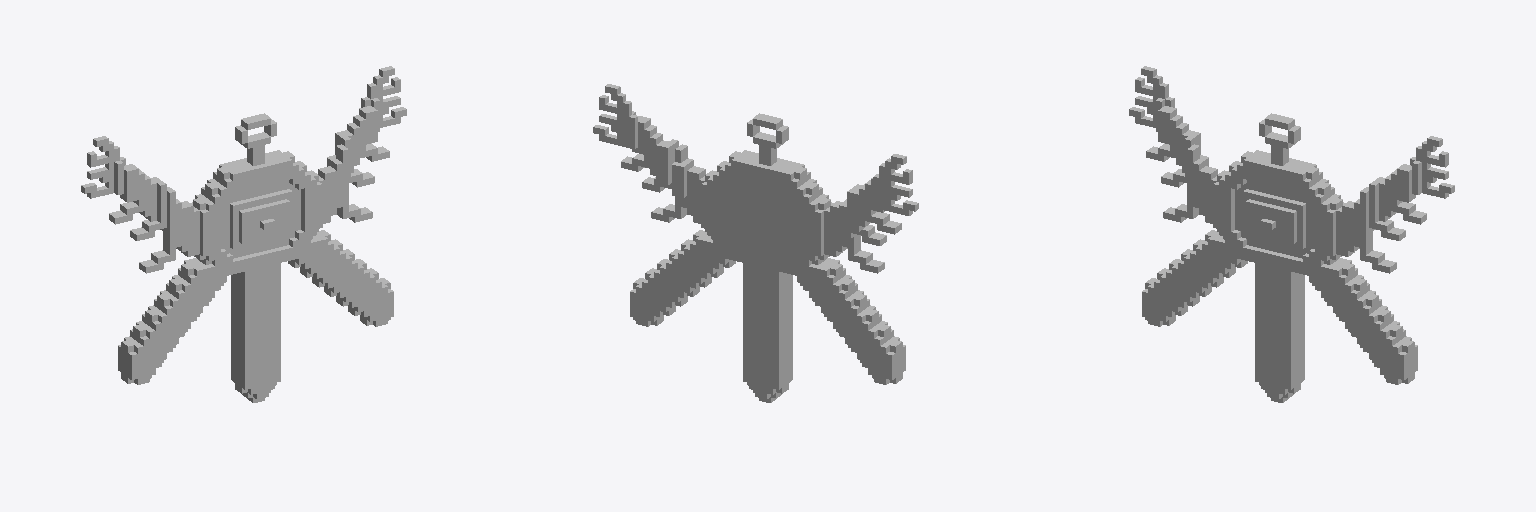
Rendered from attack_charm.obj.
3 views of the same model, side by side, from view 1: azimuth 30°, elevation 25°; view 2: azimuth 150°, elevation 25°; view 3: azimuth 330°, elevation 25° (orthographic).
Visible parts, largest first — view 1: object 1; view 2: object 1; view 3: object 1.
Part boxes in pixels (left/top/right/bottom): object 1: left=81, top=66, right=406, bottom=402; object 1: left=593, top=84, right=918, bottom=402; object 1: left=1129, top=66, right=1454, bottom=402.
Size of the model in its own units: 5.4 by 4.6 by 0.8.